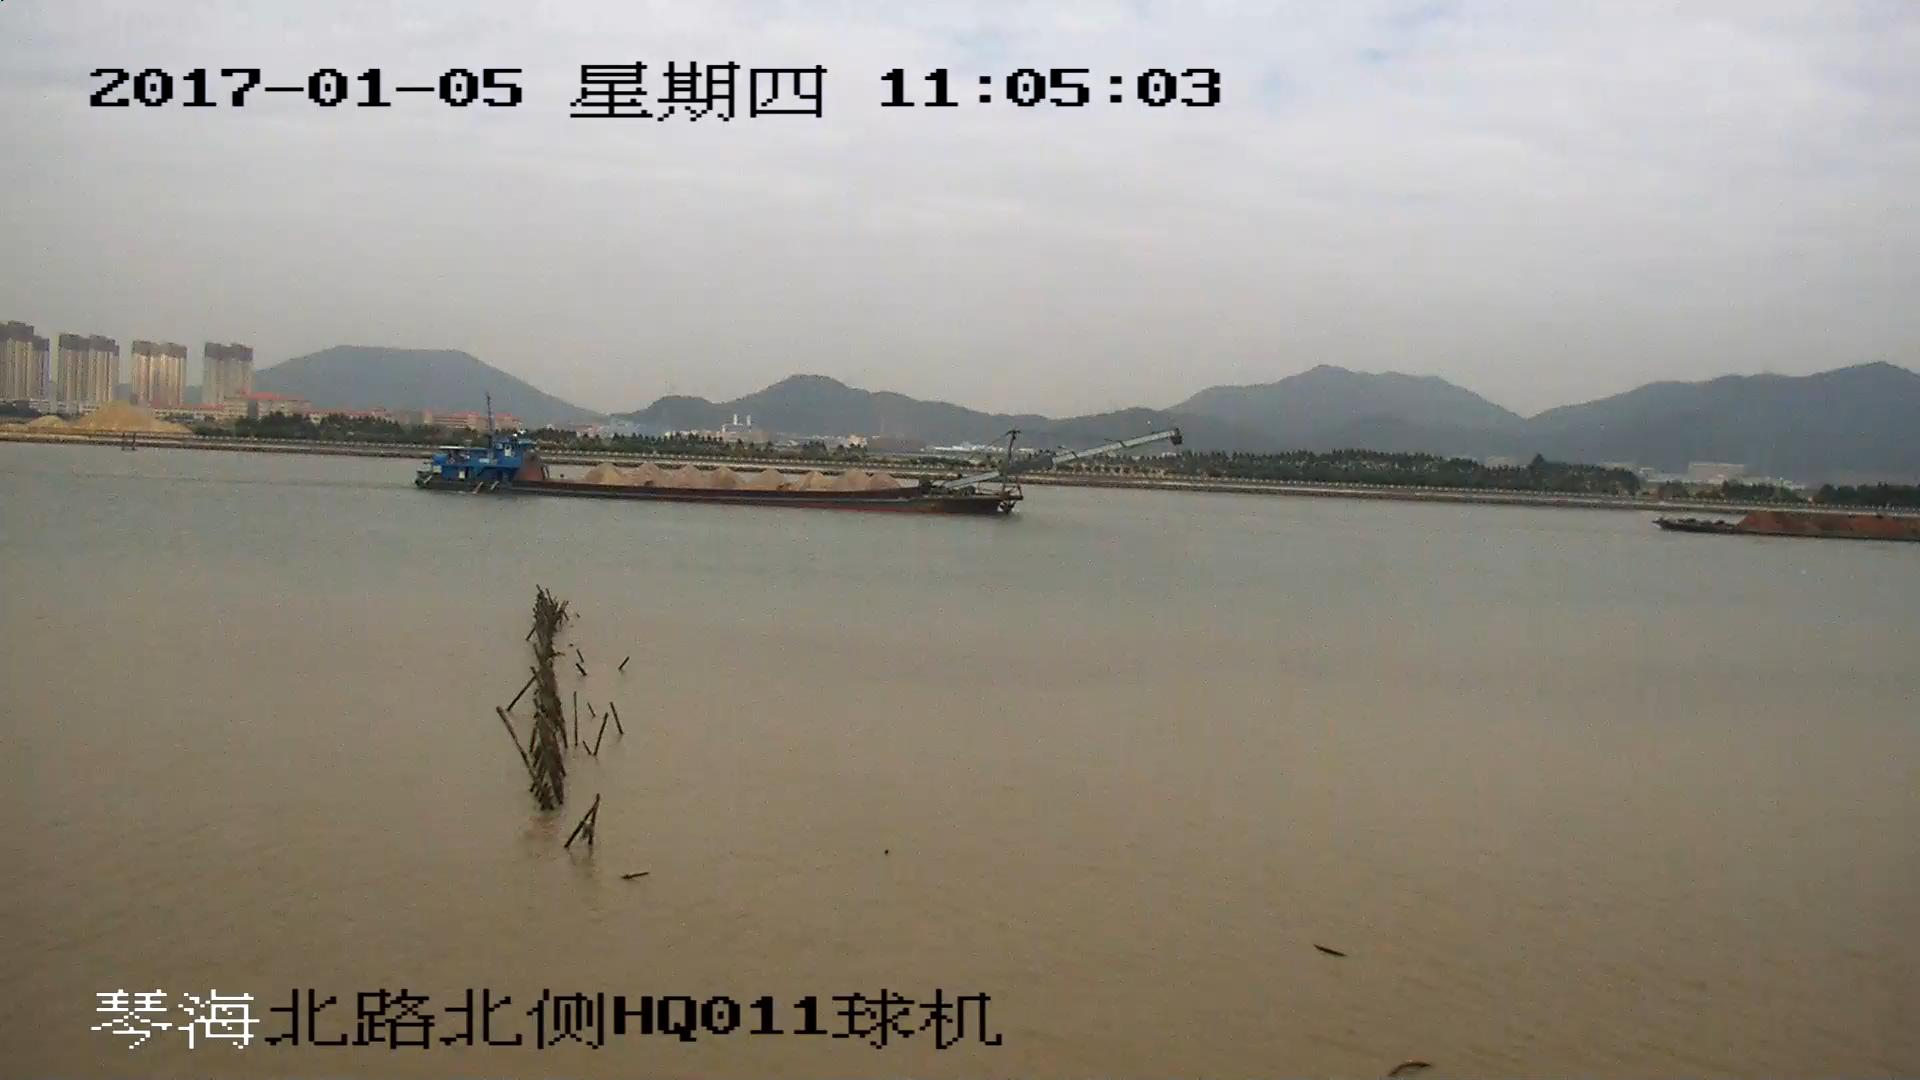ore carrier: (420, 430, 1174, 514), (1662, 508, 1920, 544)
